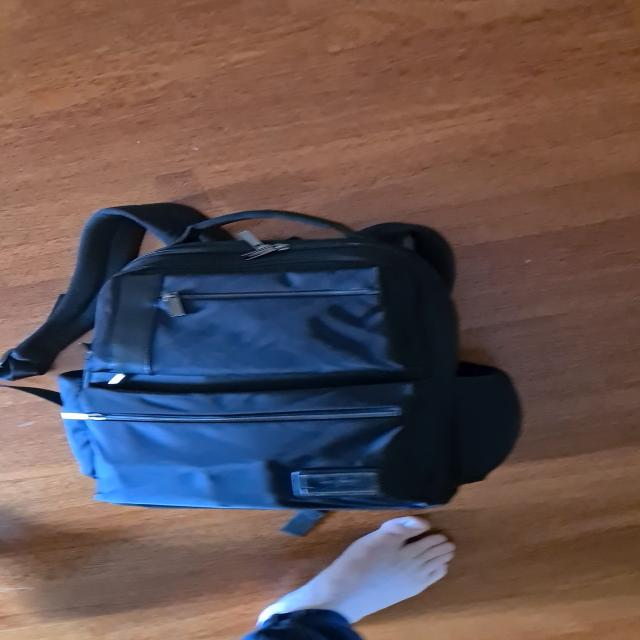backpack: (21, 190, 539, 522)
